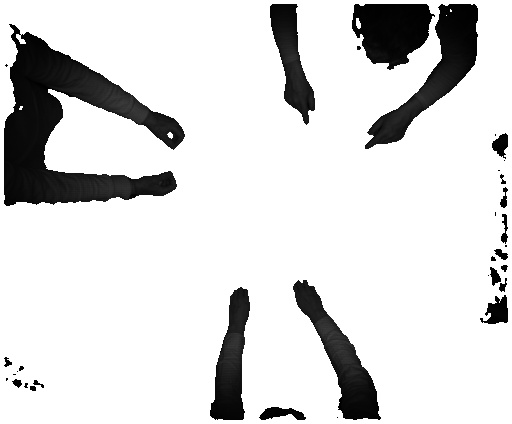fist: (151, 112, 191, 151), (142, 168, 183, 199)
hand: (360, 115, 411, 151), (288, 280, 335, 319), (280, 80, 319, 127), (224, 280, 255, 326)
